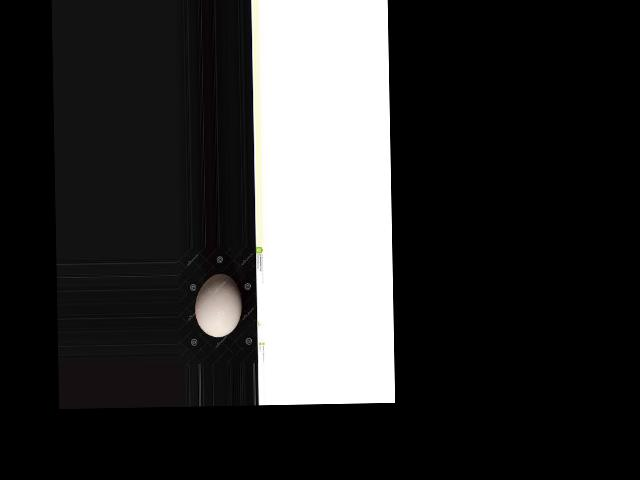egg: (194, 273, 242, 338)
